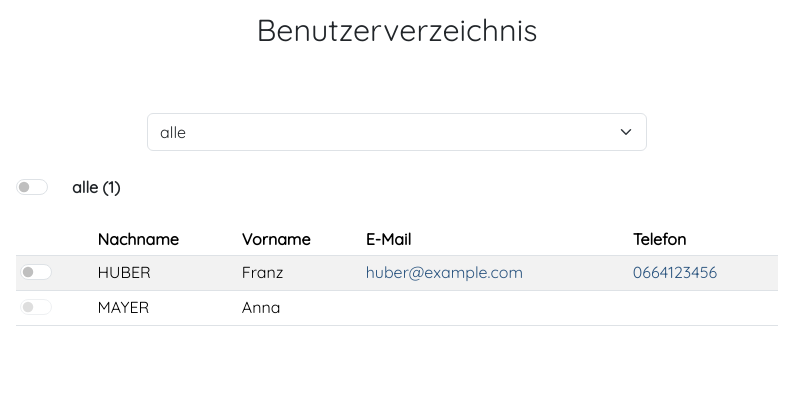
Scenario: UserdirectoryView › checking "alle" selects every eligible user, unchecking clears the selection
Click the switch with id "userdirectory-check-all" at (32, 186), box left=16, top=178, right=48, bottom=194
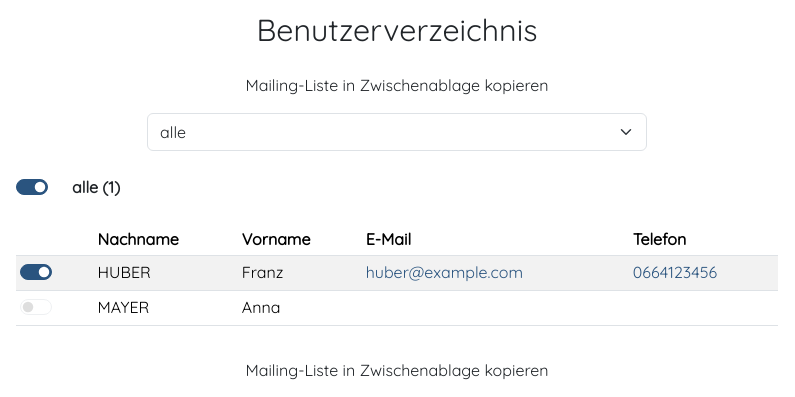
Expected: the switch in the row of "Franz" is checked, left=20, top=264, right=52, bottom=280
Click the switch with id "userdirectory-check-all" at (32, 186), box left=16, top=178, right=48, bottom=194
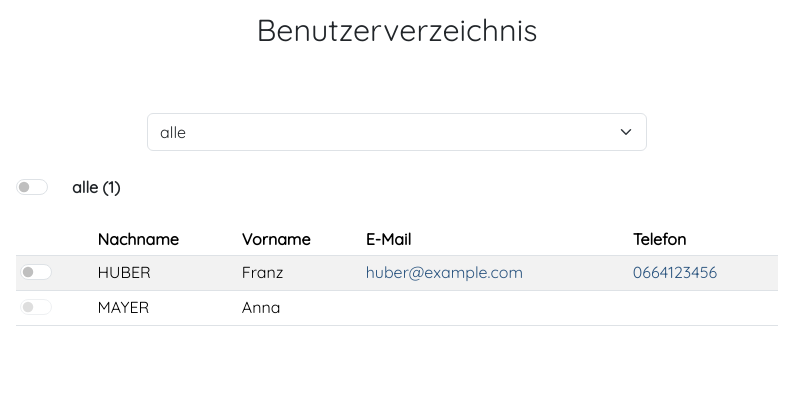
Expected: the switch in the row of "Franz" is not checked, left=20, top=264, right=52, bottom=280
